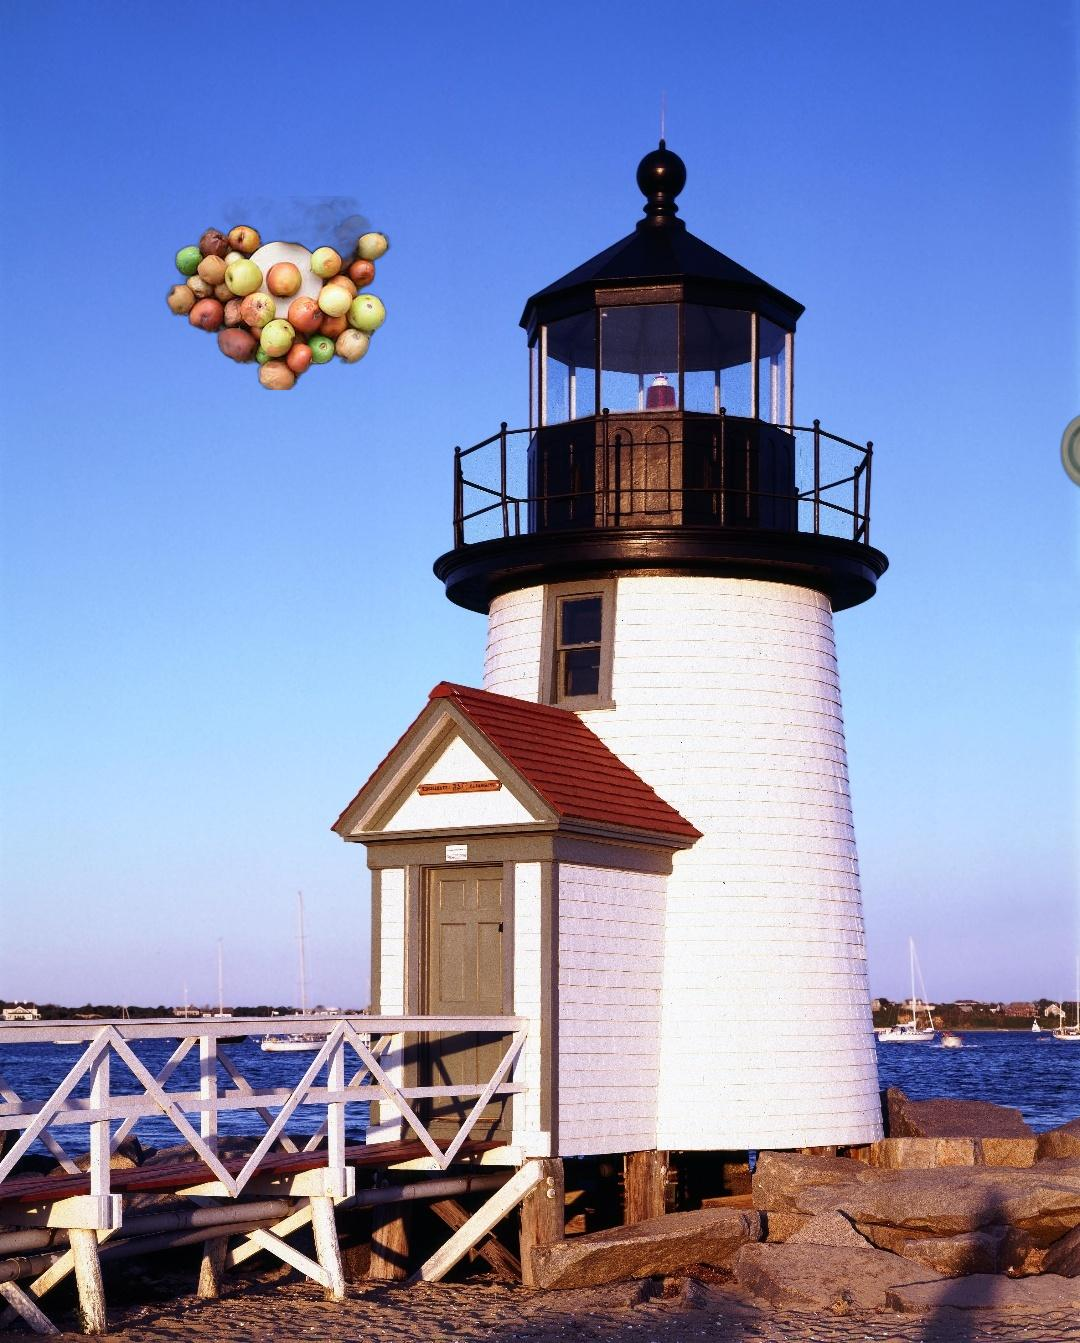biological: (162, 196, 397, 390)
glass: (1056, 407, 1080, 495)
